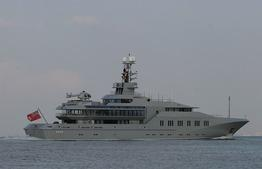yacht: (20, 54, 248, 140)
